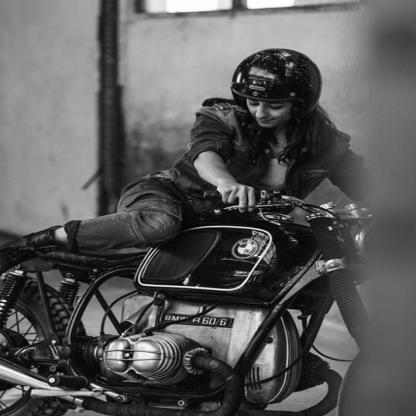helmet: (230, 47, 324, 129)
